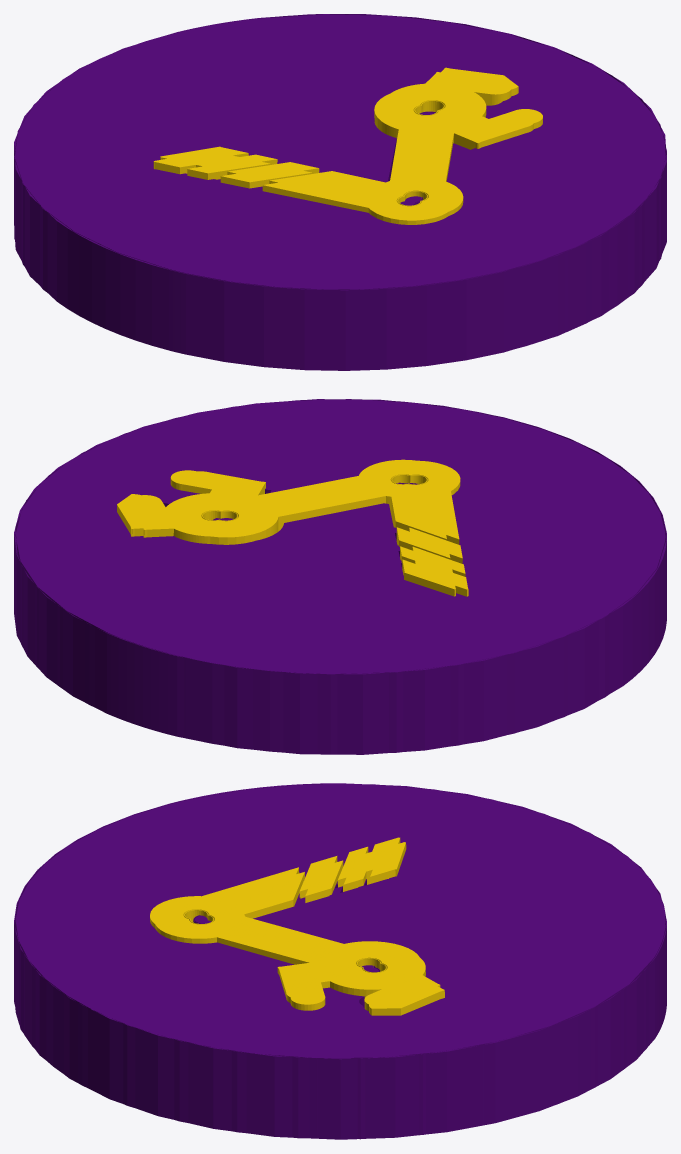
The model's file is refeitaSemChanfro.gltf.
The picture shows the model from 3 angles, top to bottom: view 1: azimuth 30°, elevation 25°; view 2: azimuth 150°, elevation 25°; view 3: azimuth 270°, elevation 25°; orthographic projection.
Parts seen in each view (by area): view 1: Mesh_Mesh_head_geo.001_lambert2SG.002, Mesh_Mesh_head_geo.001_lambert2SG.001; view 2: Mesh_Mesh_head_geo.001_lambert2SG.002, Mesh_Mesh_head_geo.001_lambert2SG.001; view 3: Mesh_Mesh_head_geo.001_lambert2SG.002, Mesh_Mesh_head_geo.001_lambert2SG.001.
Boxes of the visible parts, x1=… form: Mesh_Mesh_head_geo.001_lambert2SG.002: x1=14, y1=14, x2=666, y2=370; Mesh_Mesh_head_geo.001_lambert2SG.001: x1=153, y1=67, x2=542, y2=224; Mesh_Mesh_head_geo.001_lambert2SG.002: x1=14, y1=399, x2=666, y2=754; Mesh_Mesh_head_geo.001_lambert2SG.001: x1=117, y1=459, x2=468, y2=596; Mesh_Mesh_head_geo.001_lambert2SG.002: x1=14, y1=783, x2=666, y2=1139; Mesh_Mesh_head_geo.001_lambert2SG.001: x1=150, y1=837, x2=444, y2=1015.
Bounding box in the file's own units: 2.18 × 0.3329 × 2.18.
